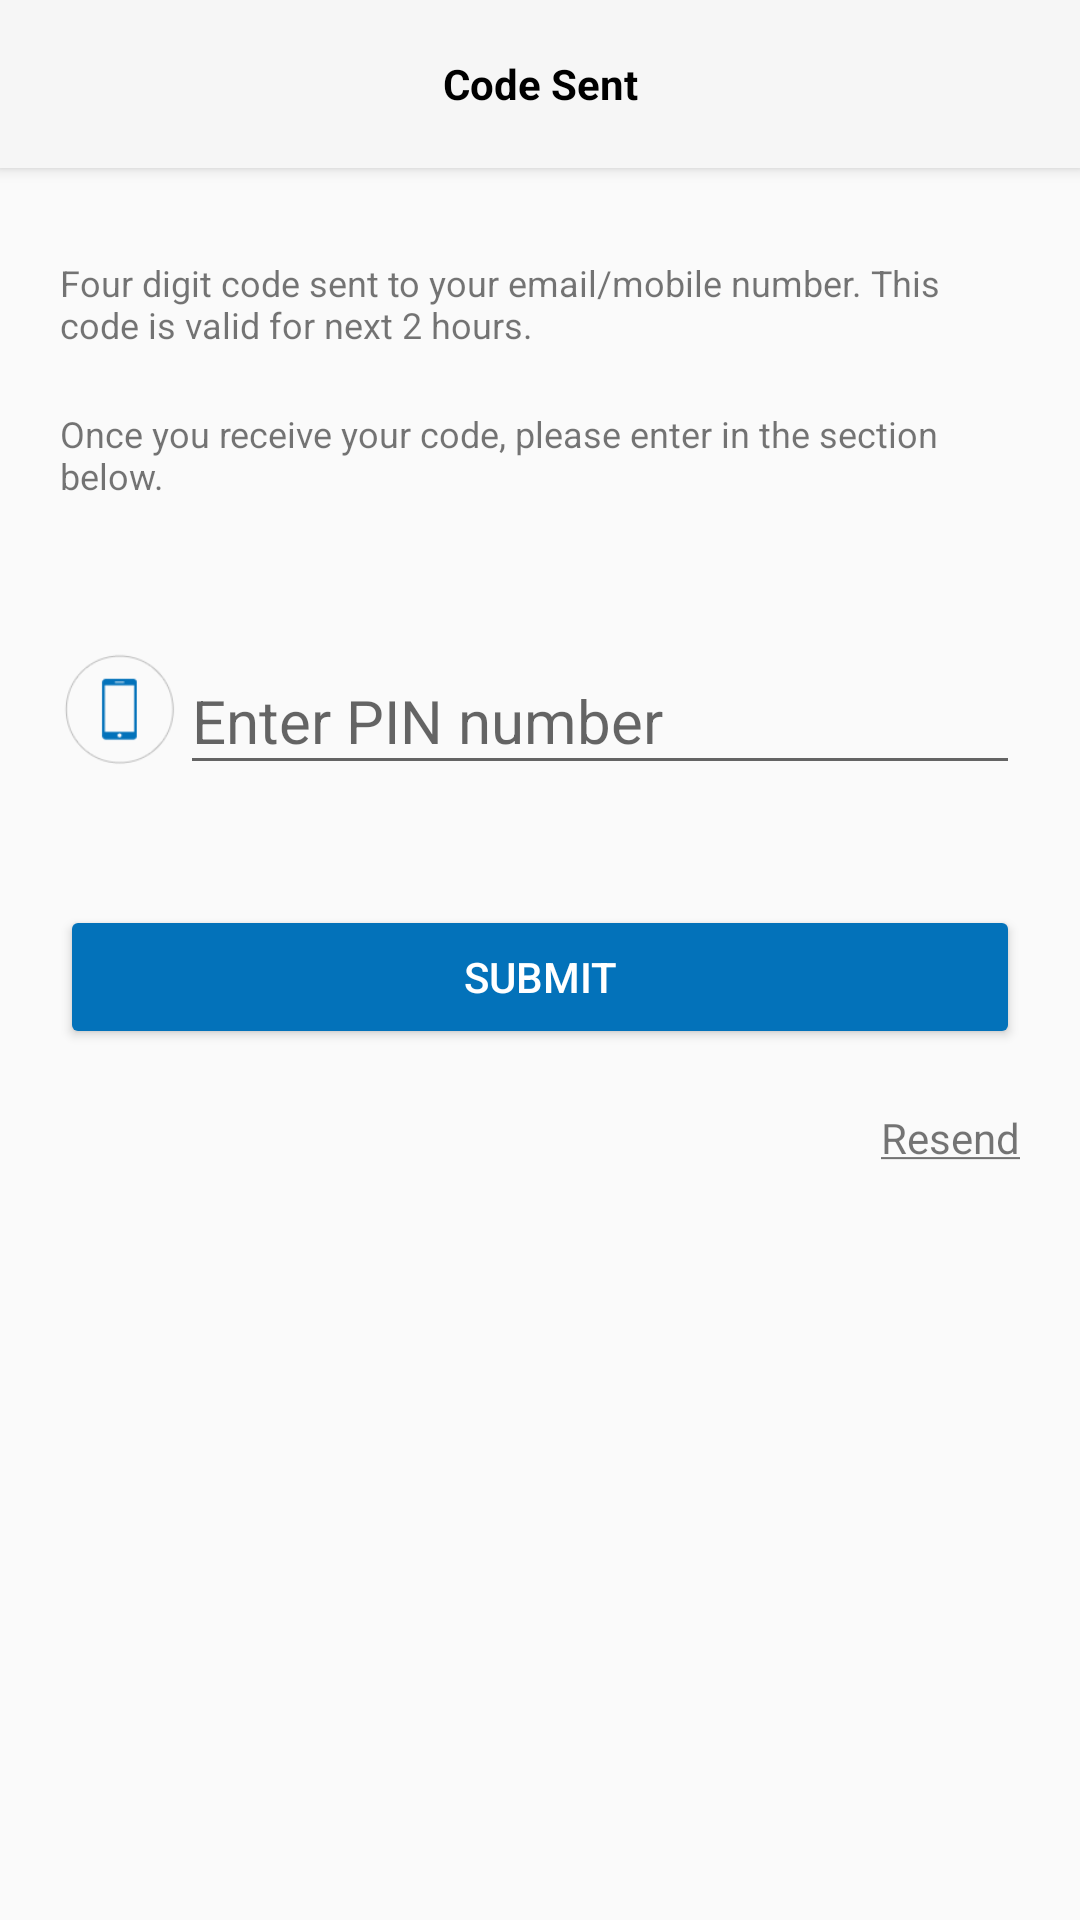

Named icons in this screenshot (1080×1920) and their bounding boxes, (x1, y1, x2, y2):
mobile: (66, 655, 174, 764)
